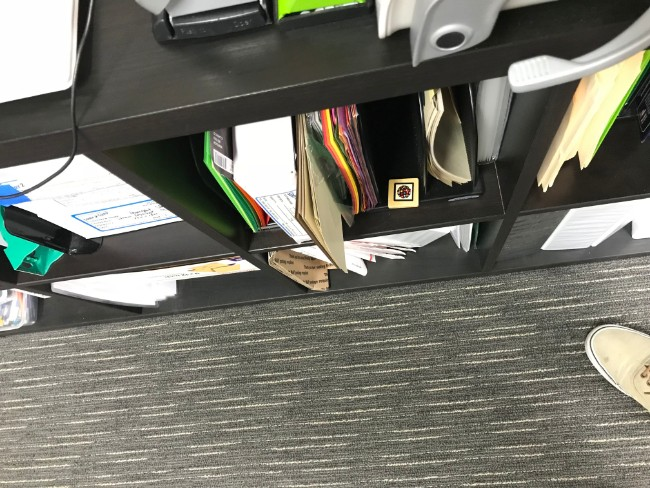cookie: (389, 178, 419, 204)
